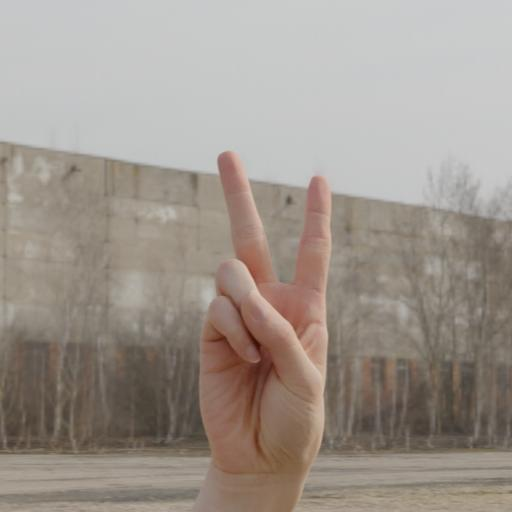V: (192, 141, 337, 484)
